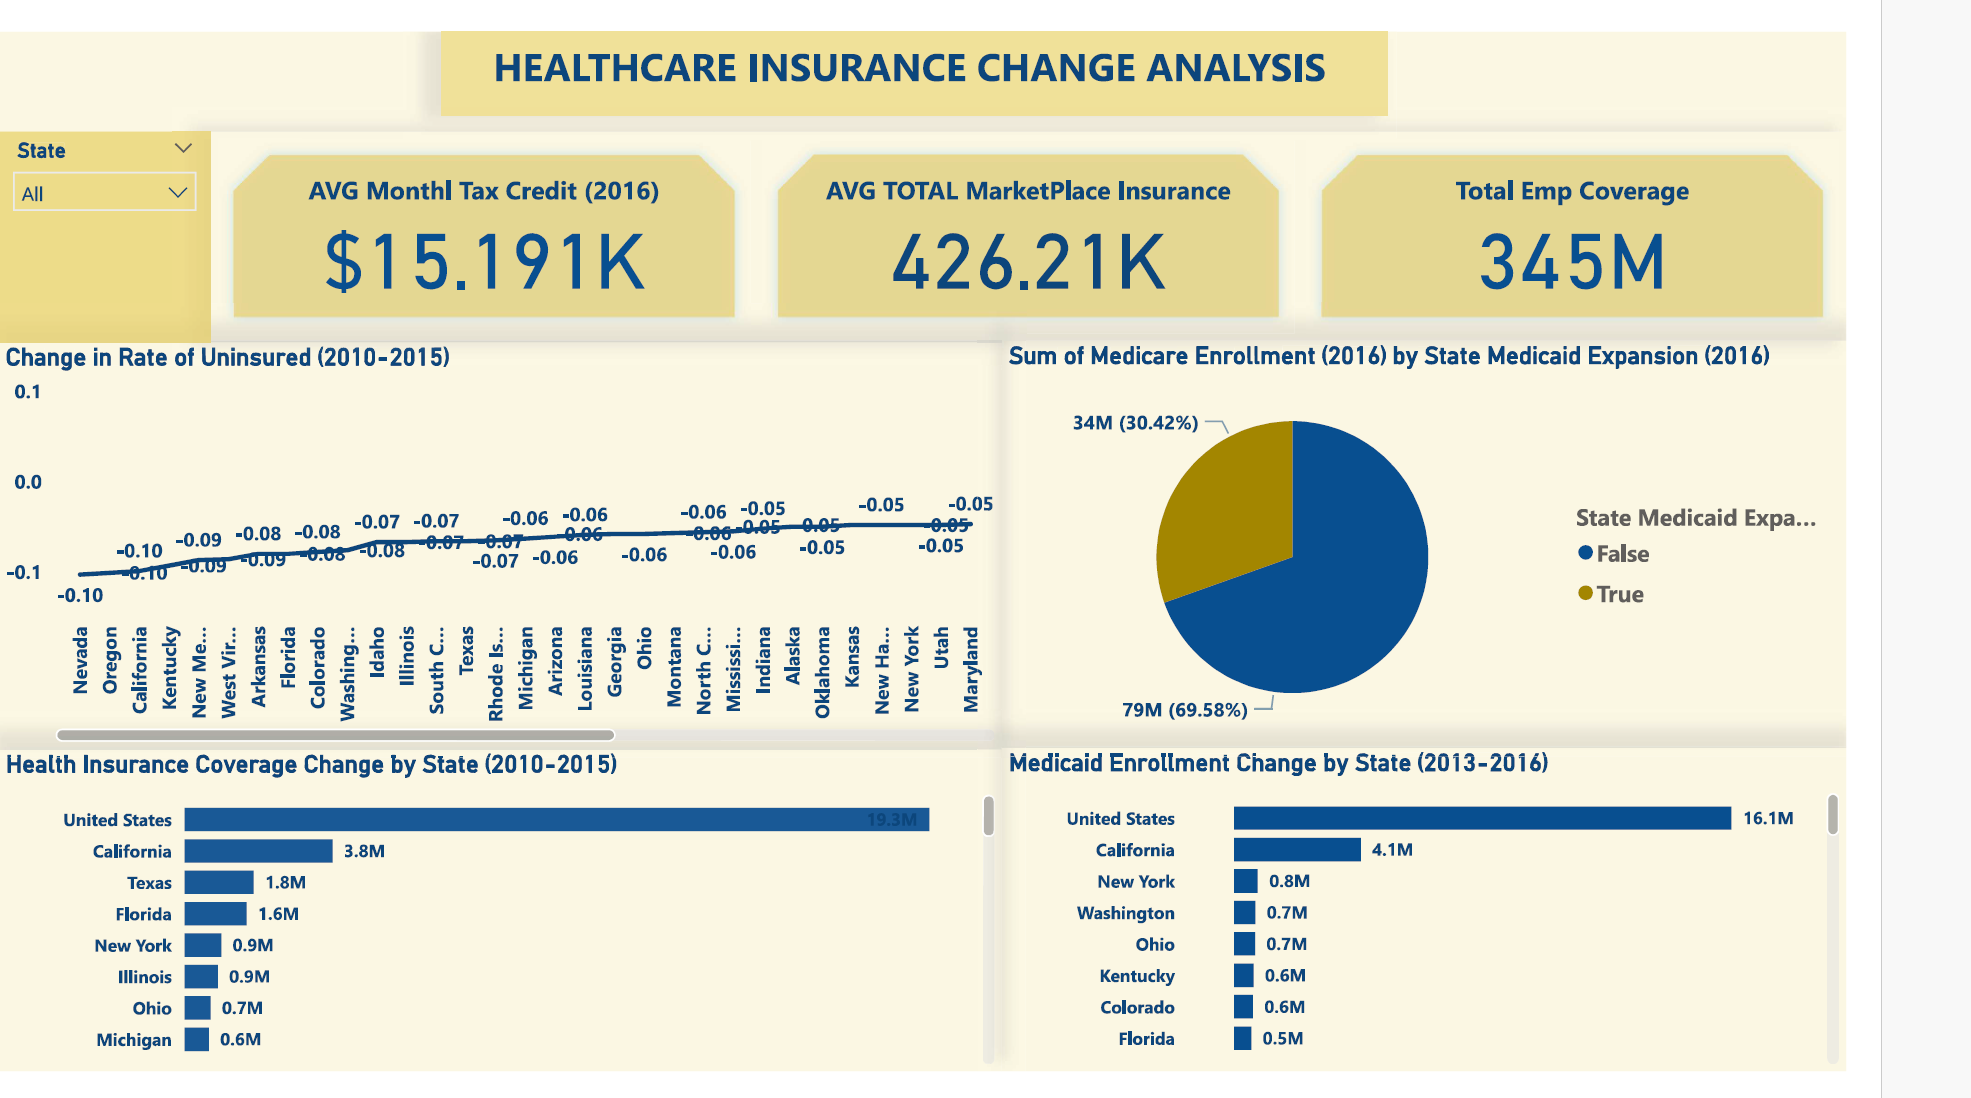

What the dashboard file says about the page in this screenshot:
{"tool":"powerbi","page":{"name":"Page 1","canvas":[1280,720],"ordinal":0},"visuals":[{"type":"clusteredBarChart","title":"Health Insurance Coverage Change by State (2010-2015)","fields":{"Y":["Sum(states.Health Insurance Coverage Change (2010-2015))"],"Category":["states.State"]},"box":[0,496.6,695.2,223.8],"z":0},{"type":"lineChart","title":"Change in Rate of Uninsured (2010-2015)","fields":{"Category":["states.State"],"Y":["Sum(states.Uninsured Rate Change (2010-2015))"]},"box":[0,214.9,695.1,281.2],"z":1000},{"type":"cardVisual","fields":{"Data":["Sum(states.Average Monthly Tax Credit (2016))","Avg(states.Marketplace Health Insurance Coverage (2016))","Sum(states.Employer Health Insurance Coverage (2015))"]},"box":[146.6,69.4,1133.4,145],"z":2000},{"type":"clusteredBarChart","title":"Medicaid Enrollment Change by State (2013-2016)","fields":{"Category":["states.State"],"Y":["Sum(states.Medicaid Enrollment Change (2013-2016))"]},"box":[695.1,496.1,585,224.2],"z":3000},{"type":"textbox","box":[307.4,0,654.2,58.3],"z":4000},{"type":"pieChart","fields":{"Category":["states.State Medicaid Expansion (2016)"],"Y":["Sum(states.Medicare Enrollment (2016))"]},"box":[695.2,214.4,584.8,280.6],"z":5000},{"type":"slicer","fields":{"Values":["states.State"]},"box":[0,69,147.2,145.9],"z":6000}]}

Visuals, with their boxes in screenshot pixels (x1, y1, x2, y2), scaled from the page's 1280x720 canvas onto the 1971x1098 screenshot:
"Health Insurance Coverage Change by State (2010-2015)" clusteredBarChart: (left=0, top=757, right=1070, bottom=1097)
"Change in Rate of Uninsured (2010-2015)" lineChart: (left=0, top=328, right=1070, bottom=757)
cardVisual - Sum(states.Average Monthly Tax Credit (2016)) x Avg(states.Marketplace Health Insurance Coverage (2016)): (left=226, top=106, right=1970, bottom=327)
"Medicaid Enrollment Change by State (2013-2016)" clusteredBarChart: (left=1070, top=757, right=1970, bottom=1097)
textbox: (left=473, top=0, right=1481, bottom=89)
pieChart - states.State Medicaid Expansion (2016) x Sum(states.Medicare Enrollment (2016)): (left=1070, top=327, right=1970, bottom=755)
slicer - states.State: (left=0, top=105, right=227, bottom=328)
